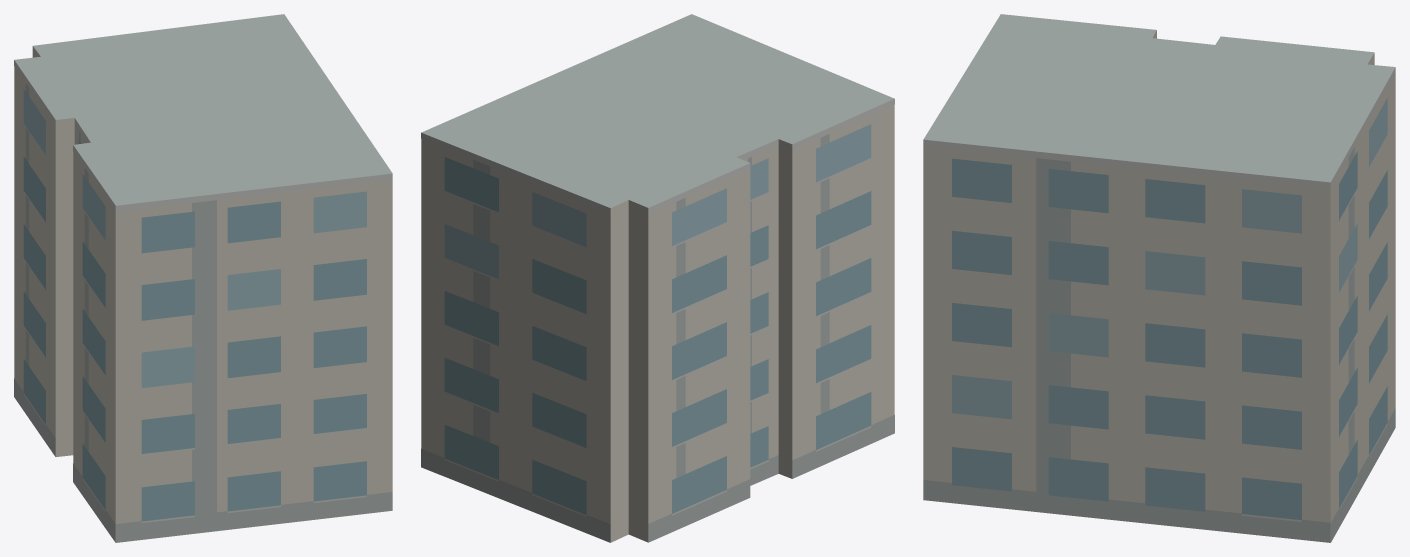
The model's file is survey-upis-32982313.glb.
The picture shows the model from 3 angles, left to right: view 1: azimuth 30°, elevation 25°; view 2: azimuth 150°, elevation 25°; view 3: azimuth 270°, elevation 25°; orthographic projection. The views are drawn at different scales.
Visible parts, largest first — view 1: survey-upis-32982313.tmp; view 2: survey-upis-32982313.tmp; view 3: survey-upis-32982313.tmp.
Part boxes in pixels (x1=…): survey-upis-32982313.tmp: x1=14, y1=14, x2=392, y2=542; survey-upis-32982313.tmp: x1=421, y1=14, x2=894, y2=542; survey-upis-32982313.tmp: x1=923, y1=14, x2=1395, y2=542.
Size of the model in its own units: 13.34 by 13.3 by 15.81.
